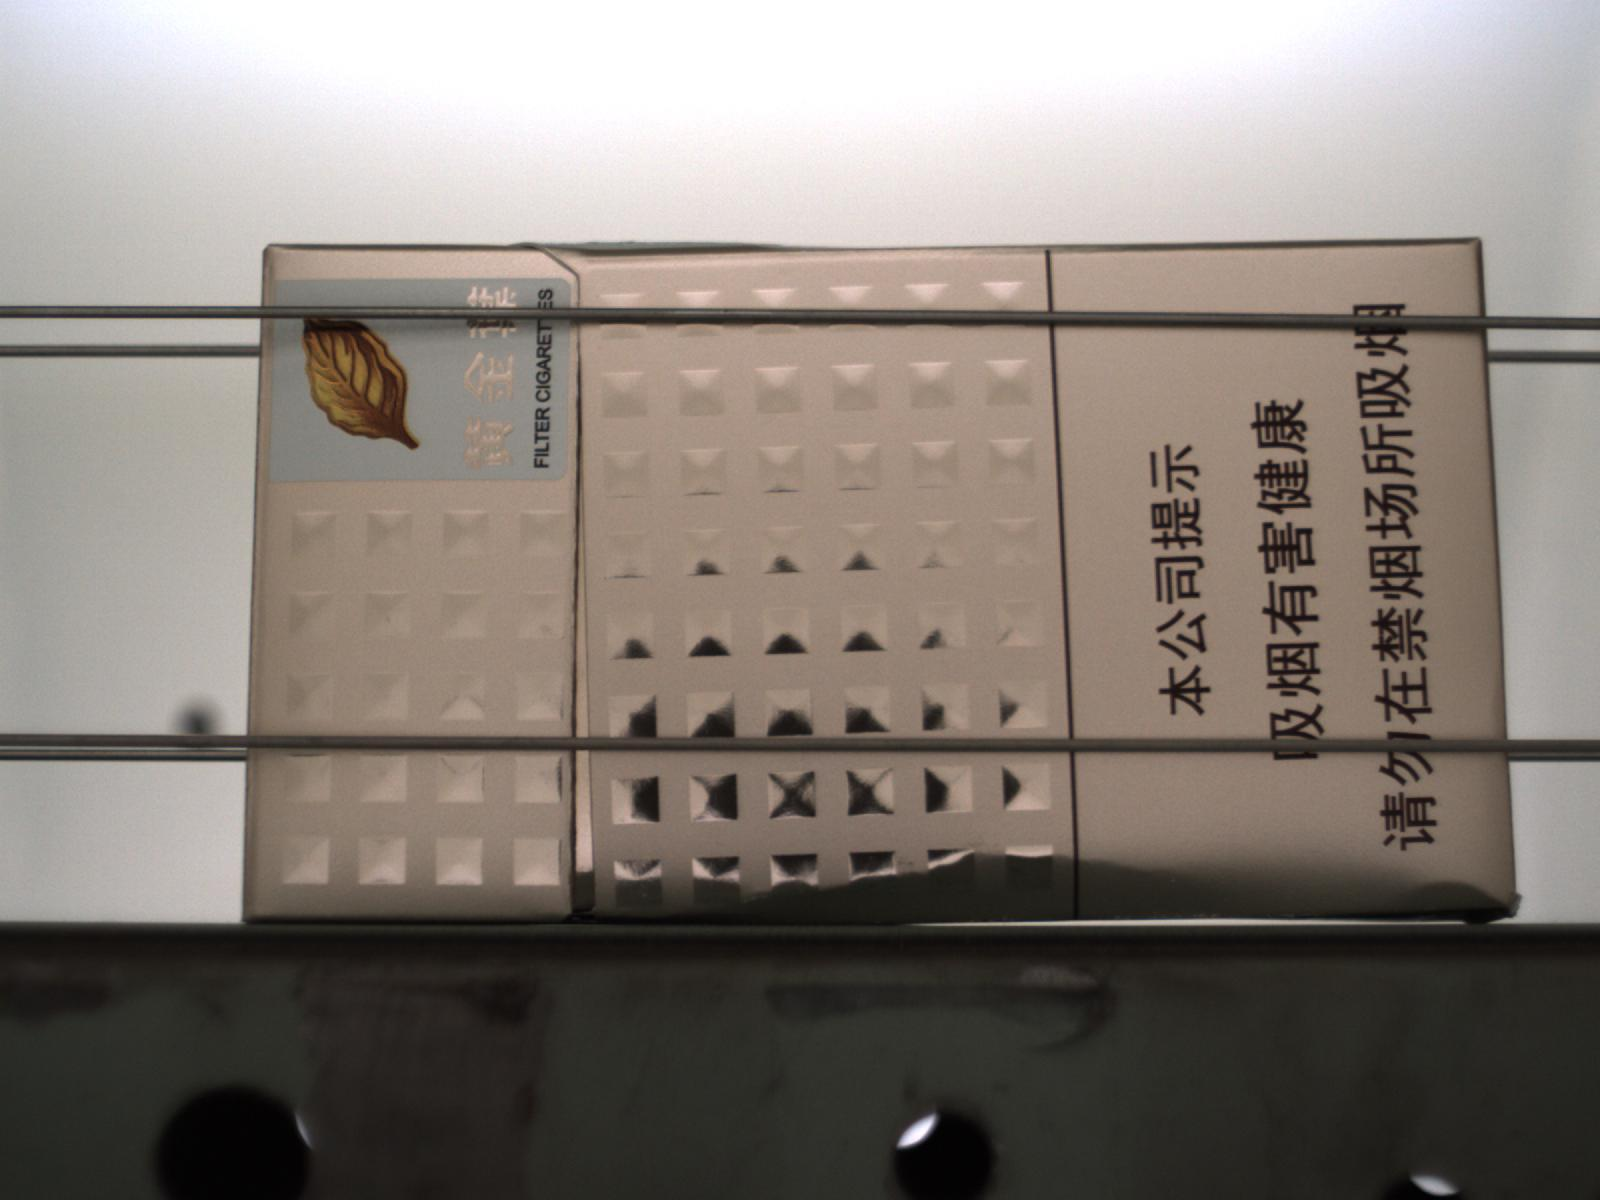boxDamage_slight: (607, 850, 1524, 921)
skewedOpen: (562, 393, 603, 920)
skewed_upper_0: (518, 239, 801, 275)
